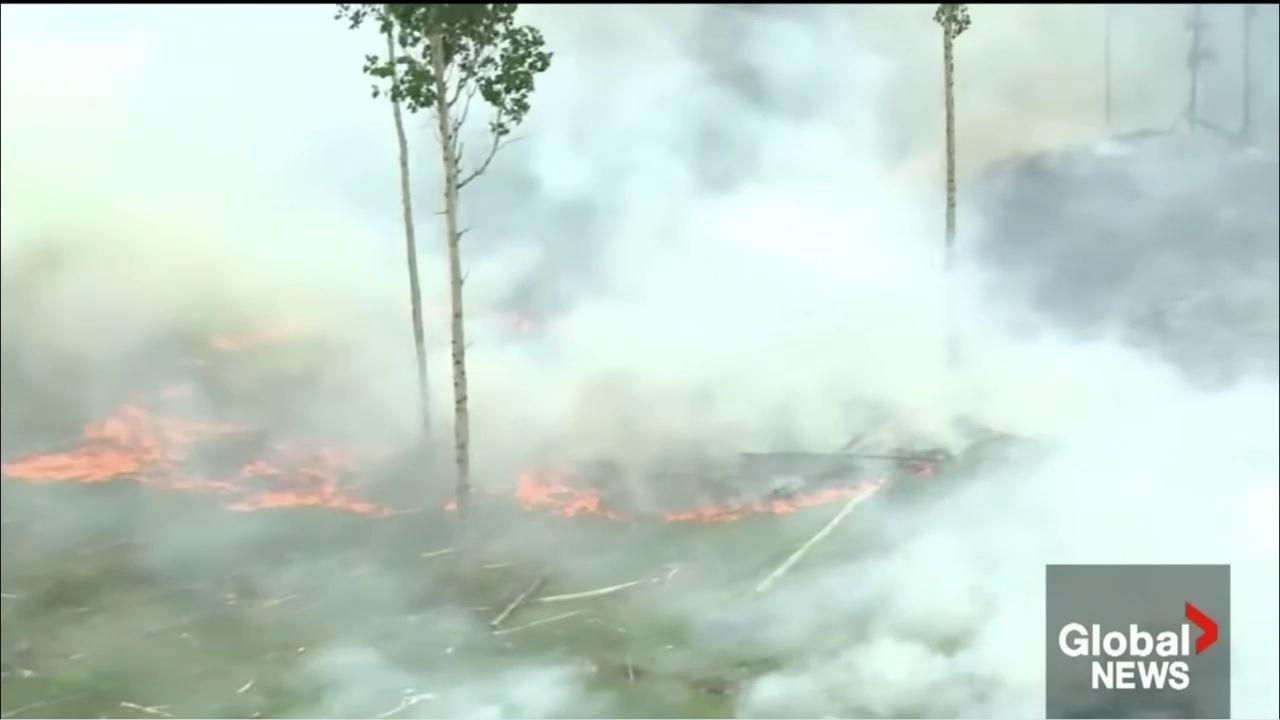fire: (2, 381, 405, 522), (658, 473, 893, 529), (512, 457, 629, 525), (213, 328, 271, 356), (496, 312, 540, 334), (913, 464, 943, 480), (442, 500, 461, 515)
smoke: (2, 4, 1279, 720)
